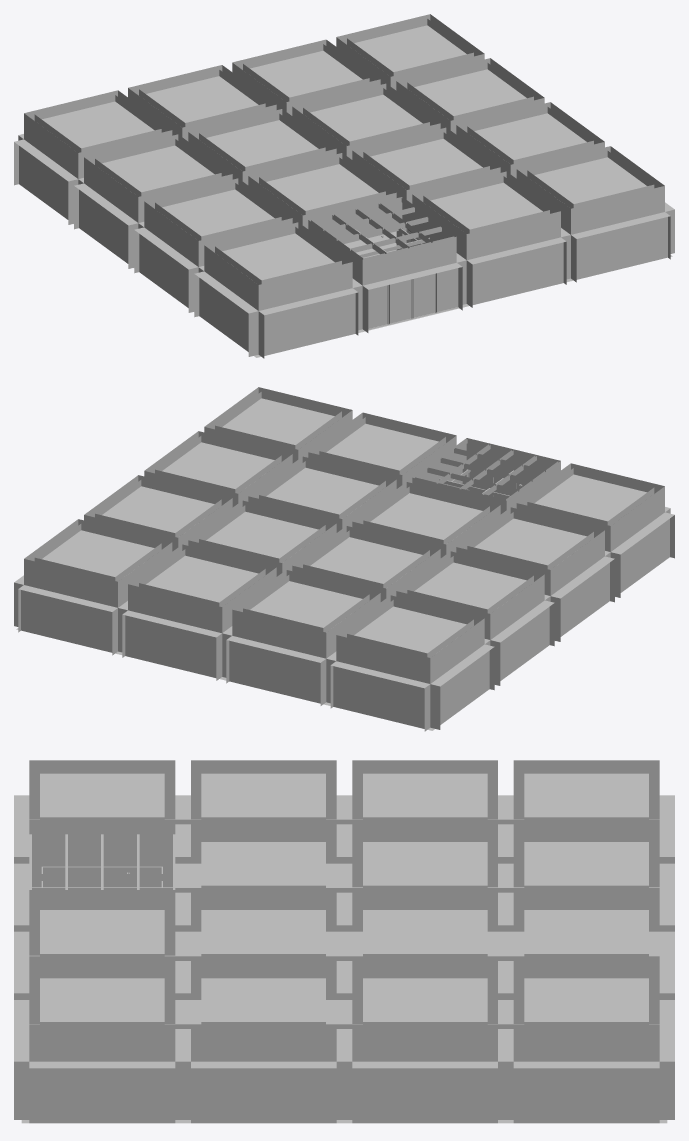
File: gallery_fbx_with_dummy.fbx
3 renders of one model, top to bottom at view 1: azimuth 30°, elevation 25°; view 2: azimuth 150°, elevation 25°; view 3: azimuth 270°, elevation 25°, orthographic. The views are drawn at different scales.
Visible parts, largest first — view 1: ceiling, walls, floor, windows, glass; view 2: ceiling, walls, floor, windows; view 3: ceiling, walls, floor, windows.
Part boxes in pixels (x1,y1,x2,y2): ceiling: (34,18,654,284); walls: (14,14,674,358); floor: (19,146,672,357); windows: (311,198,458,329); glass: (368,268,458,328); ceiling: (34,391,654,668); walls: (14,387,674,731); floor: (16,519,669,730); windows: (415,439,558,500); ceiling: (29,764,659,1028); walls: (14,760,674,1119); floor: (21,795,667,1123); windows: (29,829,175,889).
Size of the model in its own units: 51.2 by 8 by 51.2.
